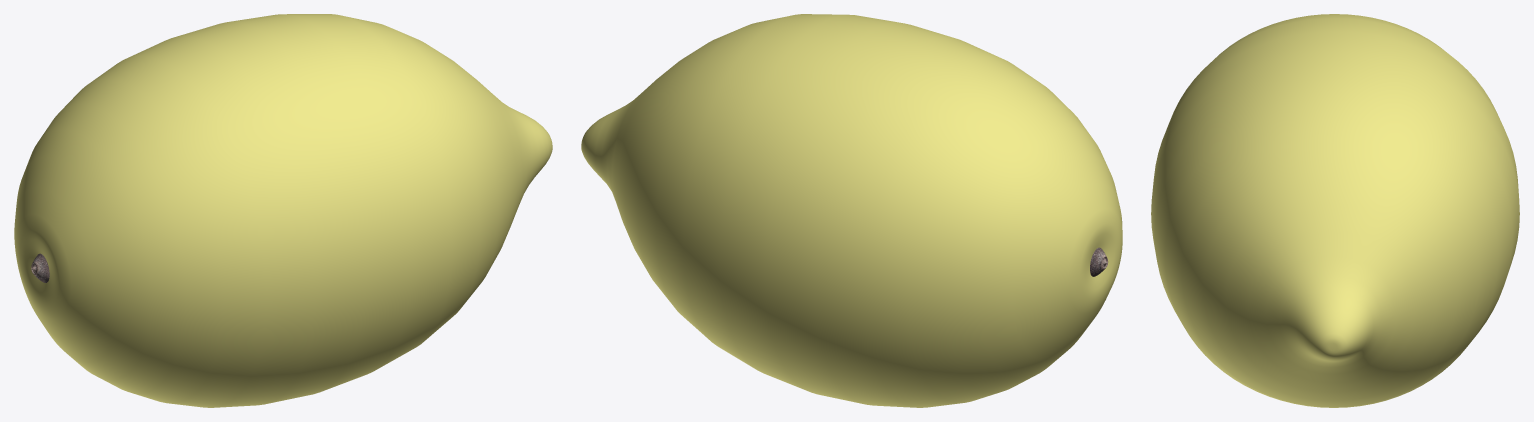
File: SM_Lemon.fbx
The picture shows the model from 3 angles, left to right: view 1: azimuth 30°, elevation 25°; view 2: azimuth 150°, elevation 25°; view 3: azimuth 270°, elevation 25°; orthographic projection. The views are drawn at different scales.
Visible parts, largest first — view 1: LemonPeel; view 2: LemonPeel; view 3: LemonPeel.
Boxes of the visible parts, x1,y1,x2,y2 form: LemonPeel: [14, 14, 552, 407]; LemonPeel: [581, 14, 1122, 407]; LemonPeel: [1151, 14, 1519, 407].
Size of what is drawn, in the model's own units: 9.09 by 5.82 by 5.77.
